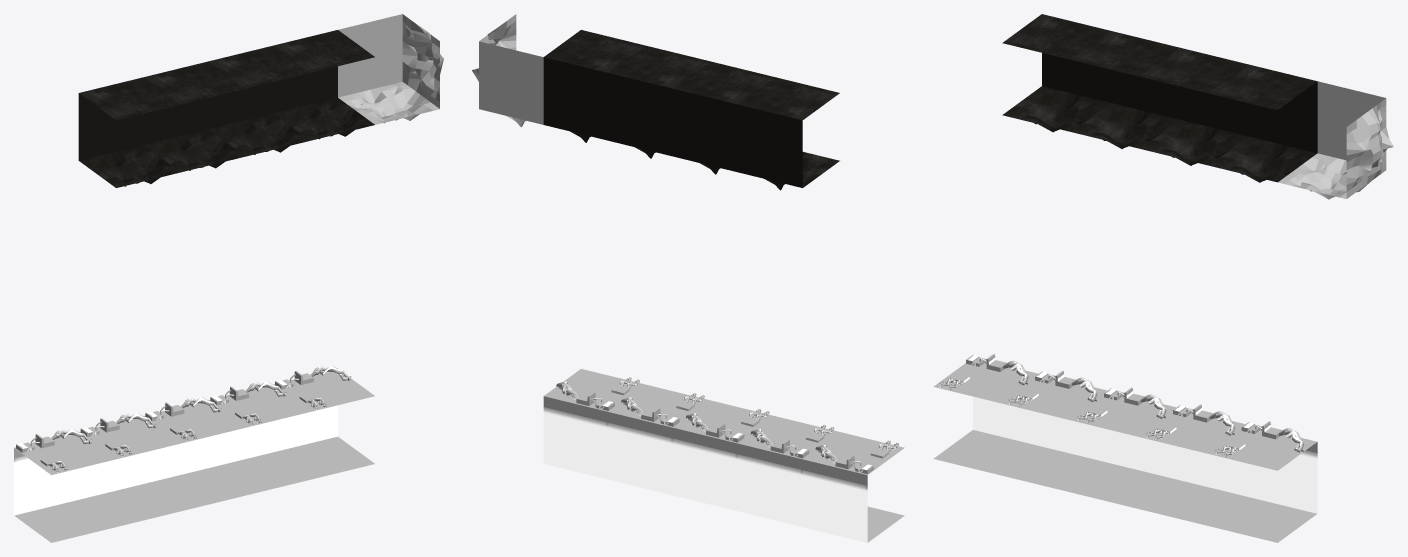
Rendered from Cubi_Corridor5to6.fbx.
3 views of the same model, side by side, from view 1: azimuth 30°, elevation 25°; view 2: azimuth 150°, elevation 25°; view 3: azimuth 330°, elevation 25° (orthographic). The views are drawn at different scales.
Visible parts, largest first — view 1: Cubes_Corridor5to6; view 2: Cubes_Corridor5to6; view 3: Cubes_Corridor5to6.
Boxes of the visible parts, <box> form: Cubes_Corridor5to6: <box>14,14,443,542</box>; Cubes_Corridor5to6: <box>472,14,904,542</box>; Cubes_Corridor5to6: <box>933,14,1393,542</box>.
Size of the model in its own units: 622 by 600 by 100.
